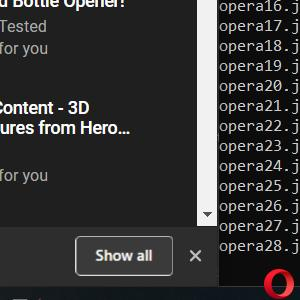opera: (264, 268, 294, 299)
